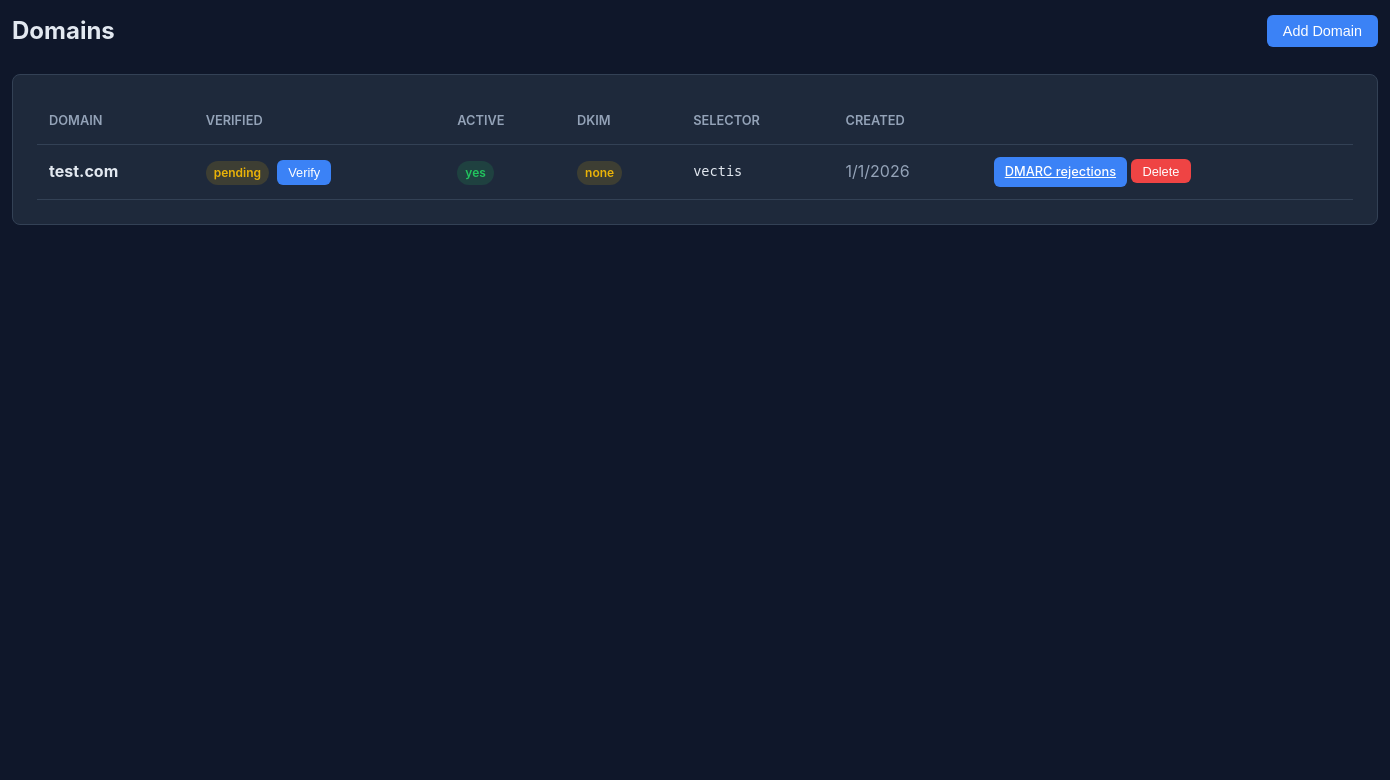
Test: DomainsPage › shows TXT record hint when verification fails
Click the button "Verify" at (304, 172), box [277,160,331,185]
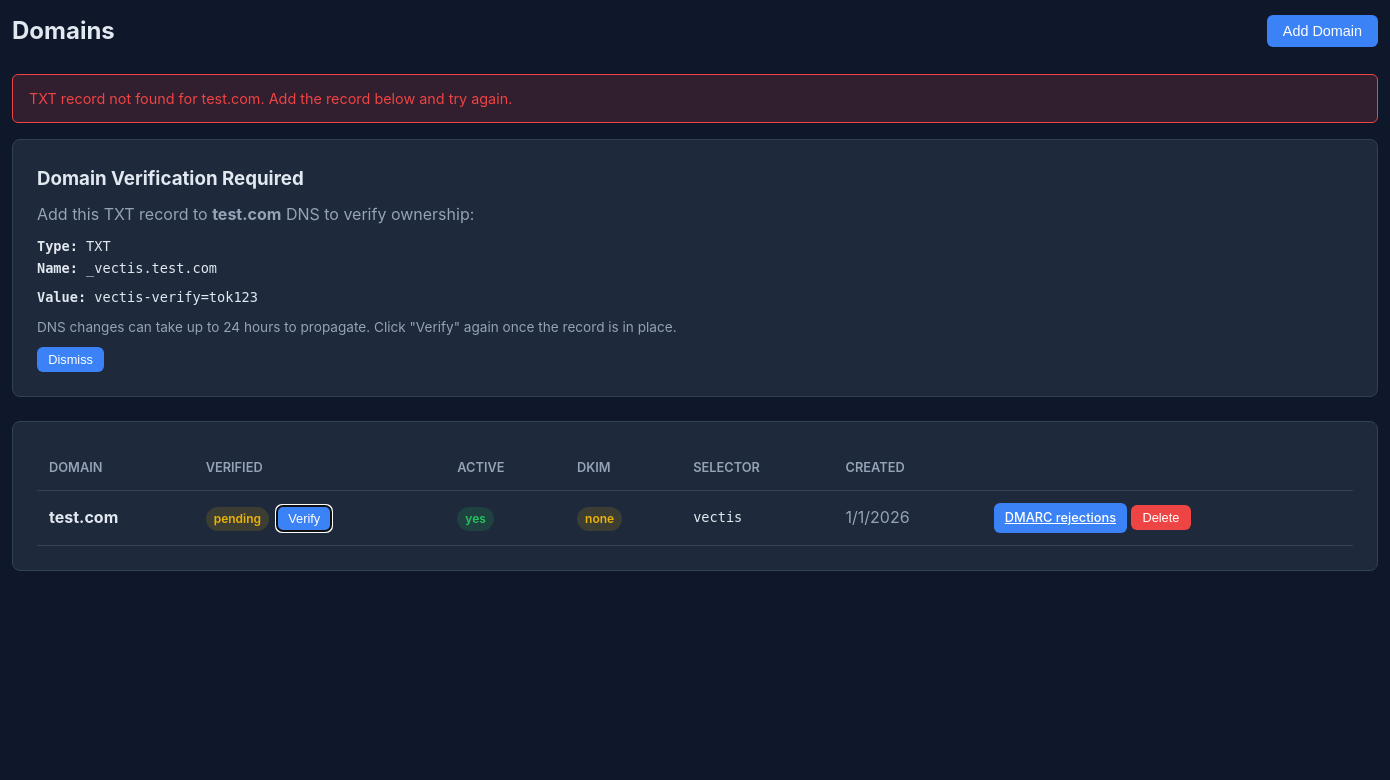
Now the heading "Domain Verification Required" is shown, box [37,167,304,190]
Now the text "_vectis.test.com" is shown, box [86,260,217,276]
